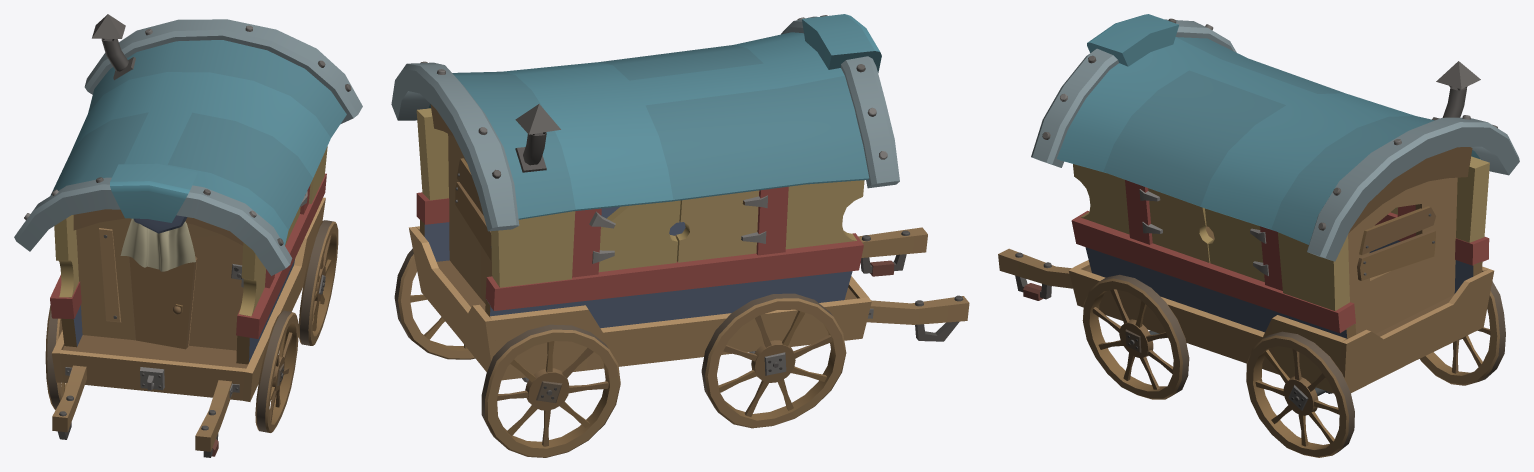
File: xyz_school_hw5_part_1_-_old_caravan_cart.glb
3 views of the same model, side by side, from view 1: azimuth 30°, elevation 25°; view 2: azimuth 150°, elevation 25°; view 3: azimuth 270°, elevation 25° (orthographic). The views are drawn at different scales.
Visible parts, largest first — view 1: polySurface29, polySurface56, polySurface60, polySurface61, polySurface20, pCube30, group4, polySurface58, polySurface16, polySurface21, group9_polySurface92, polySurface27 (+12 smaller); view 2: polySurface29, polySurface21, polySurface16, group4, group9_polySurface92, polySurface10, polySurface61, polySurface9, polySurface18, polySurface19, polySurface60, polySurface15 (+12 smaller); view 3: polySurface29, polySurface57, polySurface61, polySurface16, group9_polySurface92, polySurface21, polySurface15, group4, polySurface9, polySurface10, polySurface60, polySurface18 (+12 smaller).
Boxes of the visible parts, bbox=[...] form: polySurface29: bbox=[50, 40, 346, 245]; polySurface56: bbox=[76, 218, 243, 350]; polySurface60: bbox=[14, 177, 292, 275]; polySurface61: bbox=[84, 19, 362, 123]; polySurface20: bbox=[59, 350, 245, 400]; pCube30: bbox=[129, 256, 196, 349]; group4: bbox=[45, 305, 298, 432]; polySurface58: bbox=[110, 163, 197, 222]; polySurface16: bbox=[50, 173, 326, 338]; polySurface21: bbox=[51, 200, 324, 401]; group9_polySurface92: bbox=[298, 220, 338, 345]; polySurface27: bbox=[62, 256, 248, 368]; polySurface29: bbox=[428, 32, 869, 219]; polySurface21: bbox=[416, 226, 871, 380]; polySurface16: bbox=[416, 192, 863, 310]; group4: bbox=[701, 293, 846, 428]; group9_polySurface92: bbox=[394, 248, 620, 457]; polySurface10: bbox=[420, 206, 852, 328]; polySurface61: bbox=[391, 62, 519, 231]; polySurface9: bbox=[416, 108, 575, 287]; polySurface18: bbox=[676, 190, 759, 262]; polySurface19: bbox=[598, 200, 680, 272]; polySurface60: bbox=[781, 16, 899, 188]; polySurface15: bbox=[409, 226, 496, 372]; polySurface29: bbox=[1057, 37, 1480, 244]; polySurface57: bbox=[1348, 177, 1457, 334]; polySurface61: bbox=[1307, 117, 1519, 261]; polySurface16: bbox=[1071, 210, 1489, 333]; group9_polySurface92: bbox=[1246, 281, 1505, 457]; polySurface21: bbox=[1068, 266, 1488, 393]; polySurface15: bbox=[1340, 269, 1494, 392]; group4: bbox=[1082, 274, 1189, 399]; polySurface9: bbox=[1278, 156, 1489, 310]; polySurface10: bbox=[1085, 240, 1482, 338]; polySurface60: bbox=[1031, 19, 1236, 167]; polySurface18: bbox=[1148, 188, 1213, 262].
Size of the model in its own units: 8.72 by 6.33 by 9.19.
